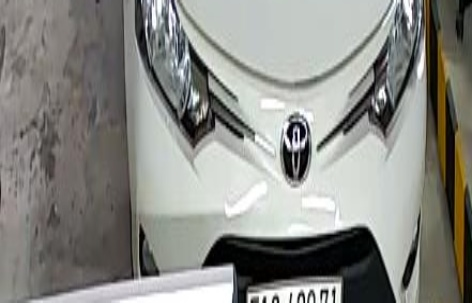plate: (248, 278, 344, 303)
